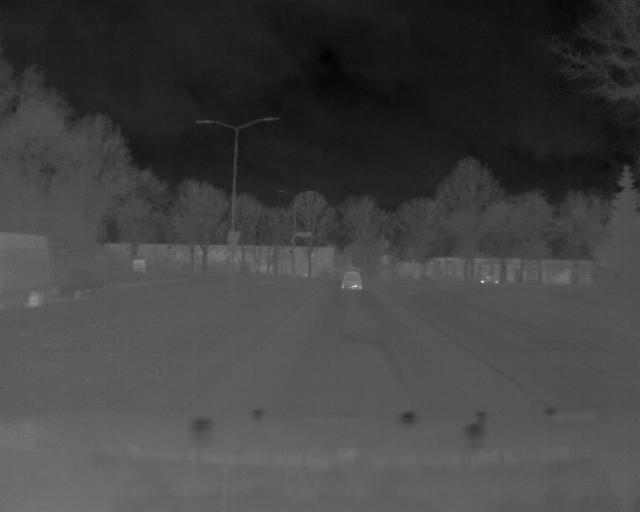car: (1, 231, 50, 313), (340, 271, 363, 292)
